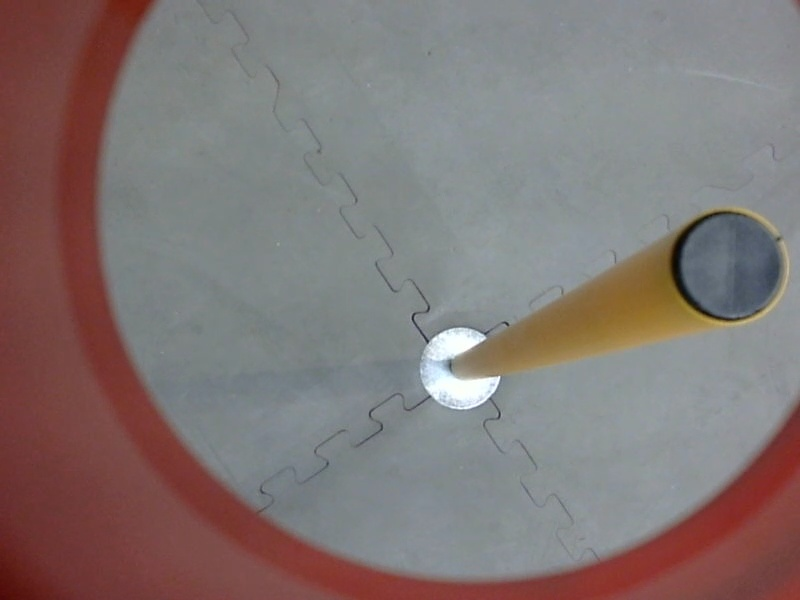tip: (663, 194, 796, 335)
